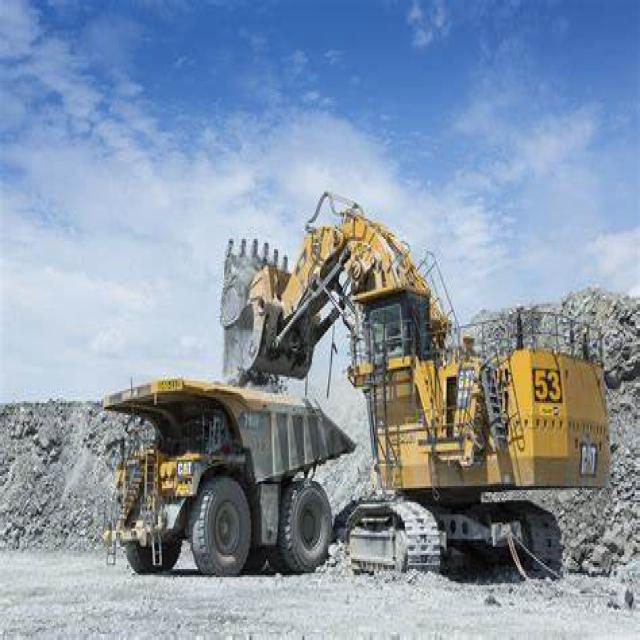dump_truck: (89, 373, 353, 581)
